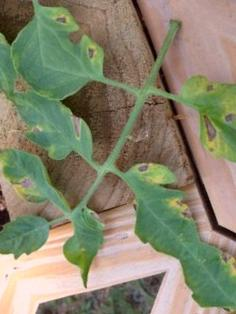Tomato Early blight leaf: (101, 146, 216, 264), (0, 69, 109, 185), (164, 54, 236, 191), (37, 199, 136, 298), (0, 128, 76, 225)
Tomato leaf: (0, 200, 61, 276)
